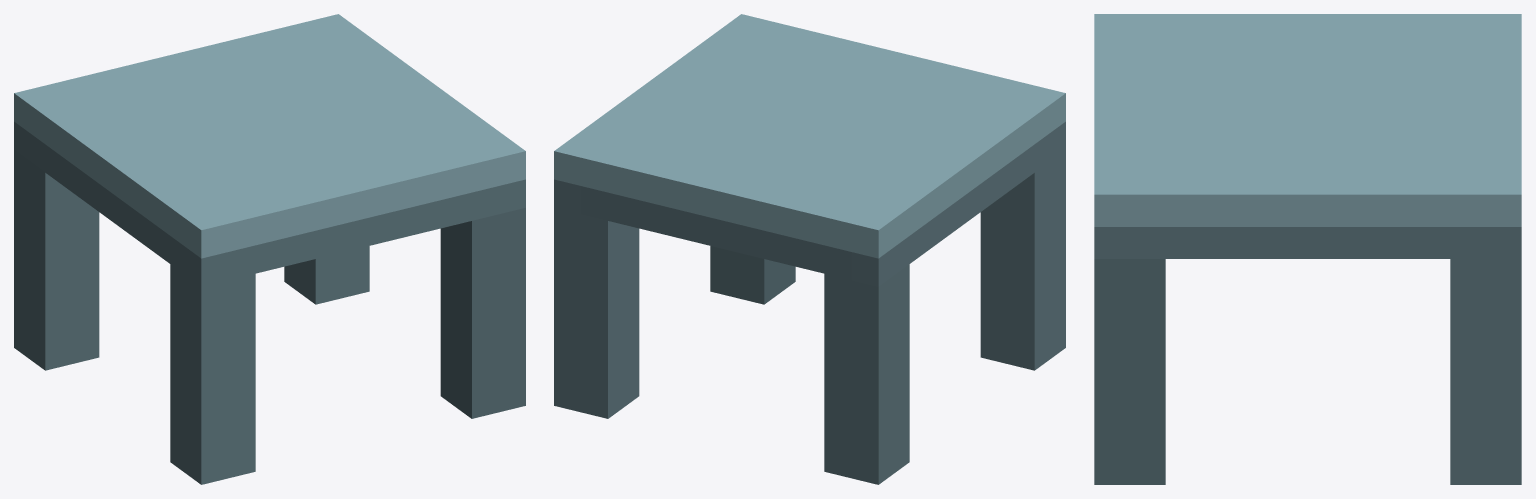
The model's file is mesa_soplado_desgastada_01.glb.
The picture shows the model from 3 angles, left to right: view 1: azimuth 30°, elevation 25°; view 2: azimuth 150°, elevation 25°; view 3: azimuth 270°, elevation 25°; orthographic projection. The views are drawn at different scales.
Parts seen in each view (by area): view 1: mesa_soplado_desgastada; view 2: mesa_soplado_desgastada; view 3: mesa_soplado_desgastada.
Part boxes in pixels (x1,y1,x2,y2): mesa_soplado_desgastada: (14, 14, 525, 484); mesa_soplado_desgastada: (554, 14, 1065, 484); mesa_soplado_desgastada: (1094, 14, 1521, 484).
Size of the model in its own units: 1 by 0.75 by 1.
